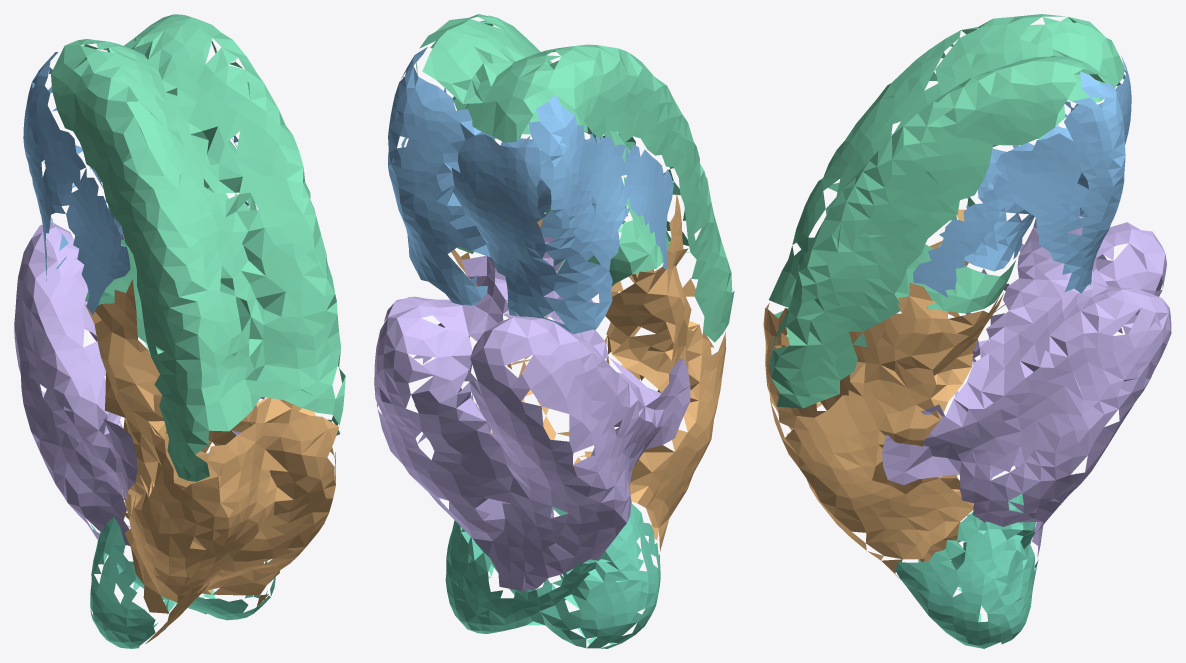
Rendered from brain-atlas.glb.
3 renders of one model, left to right at view 1: azimuth 30°, elevation 25°; view 2: azimuth 150°, elevation 25°; view 3: azimuth 270°, elevation 25°, orthographic. The views are drawn at different scales.
Visible parts, largest first — view 1: frontal, parietal, temporal, prefrontal, occipital; view 2: temporal, prefrontal, frontal, parietal, occipital; view 3: frontal, temporal, parietal, prefrontal, occipital.
Boxes of the visible parts, left/top/right/bottom form: frontal: left=51, top=14, right=345, bottom=481; parietal: left=85, top=279, right=338, bottom=643; temporal: left=14, top=222, right=264, bottom=545; prefrontal: left=23, top=52, right=257, bottom=314; occipital: left=90, top=515, right=275, bottom=648; temporal: left=374, top=236, right=690, bottom=591; prefrontal: left=388, top=47, right=673, bottom=334; frontal: left=416, top=14, right=734, bottom=342; parietal: left=451, top=193, right=726, bottom=551; occipital: left=445, top=504, right=660, bottom=648; frontal: left=769, top=14, right=1124, bottom=408; temporal: left=882, top=213, right=1171, bottom=557; parietal: left=763, top=209, right=1003, bottom=579; prefrontal: left=913, top=56, right=1131, bottom=297; occipital: left=895, top=467, right=1038, bottom=648.
Bounding box in the file's own units: 96.13 × 260 × 165.
